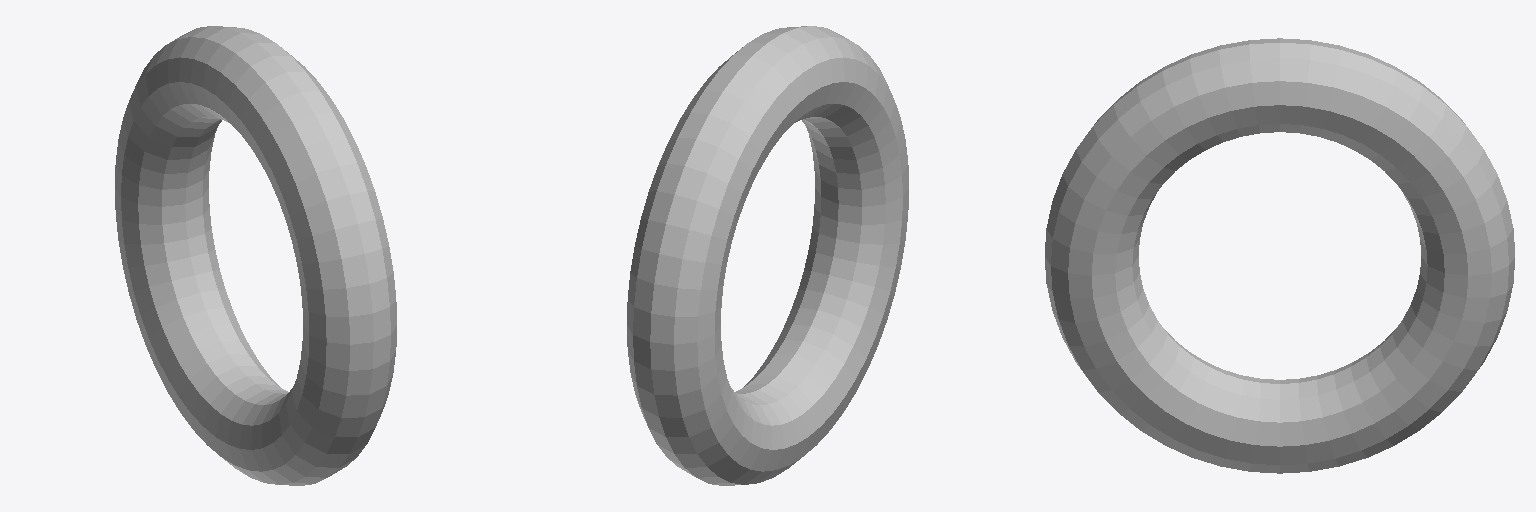
Rendered from crosshair.obj.
The picture shows the model from 3 angles: view 1: azimuth 30°, elevation 25°; view 2: azimuth 150°, elevation 25°; view 3: azimuth 270°, elevation 25°; orthographic projection.
Parts seen in each view (by area): view 1: Torus; view 2: Torus; view 3: Torus.
Part boxes in pixels (x1,y1,x2,y2): Torus: (115, 26, 396, 485); Torus: (627, 26, 908, 485); Torus: (1045, 38, 1514, 473).
Bounding box in the file's own units: 0.2129 × 1.06 × 1.06.